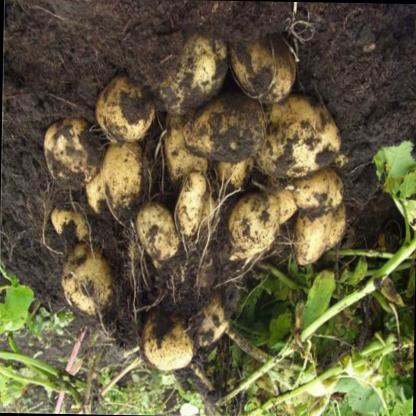potato: (245, 89, 343, 180), (154, 24, 228, 114), (181, 89, 266, 165), (42, 112, 104, 190), (95, 69, 156, 143), (60, 242, 116, 320), (224, 192, 281, 262), (138, 310, 196, 372), (292, 189, 333, 268), (134, 199, 181, 262), (292, 162, 344, 214), (174, 168, 207, 238)
